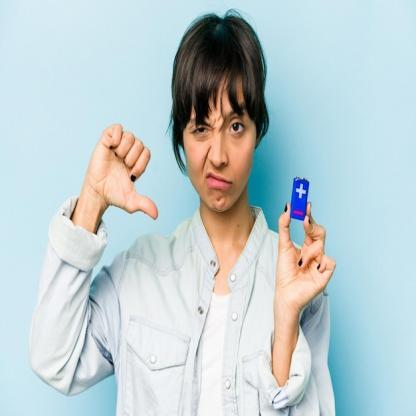thumb_down: (86, 121, 160, 224)
